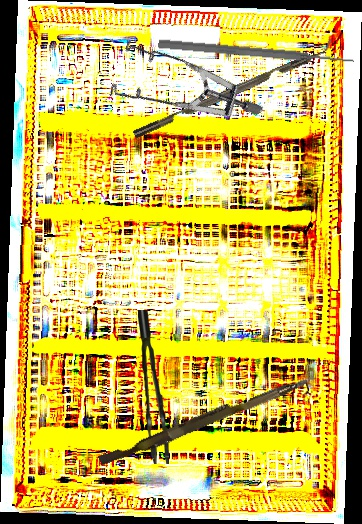Chopper: (128, 35, 337, 139)
Pusher: (98, 366, 316, 472), (157, 37, 355, 68)
Speculum: (90, 2, 265, 181)
Tissue Forceps: (138, 310, 169, 464)
